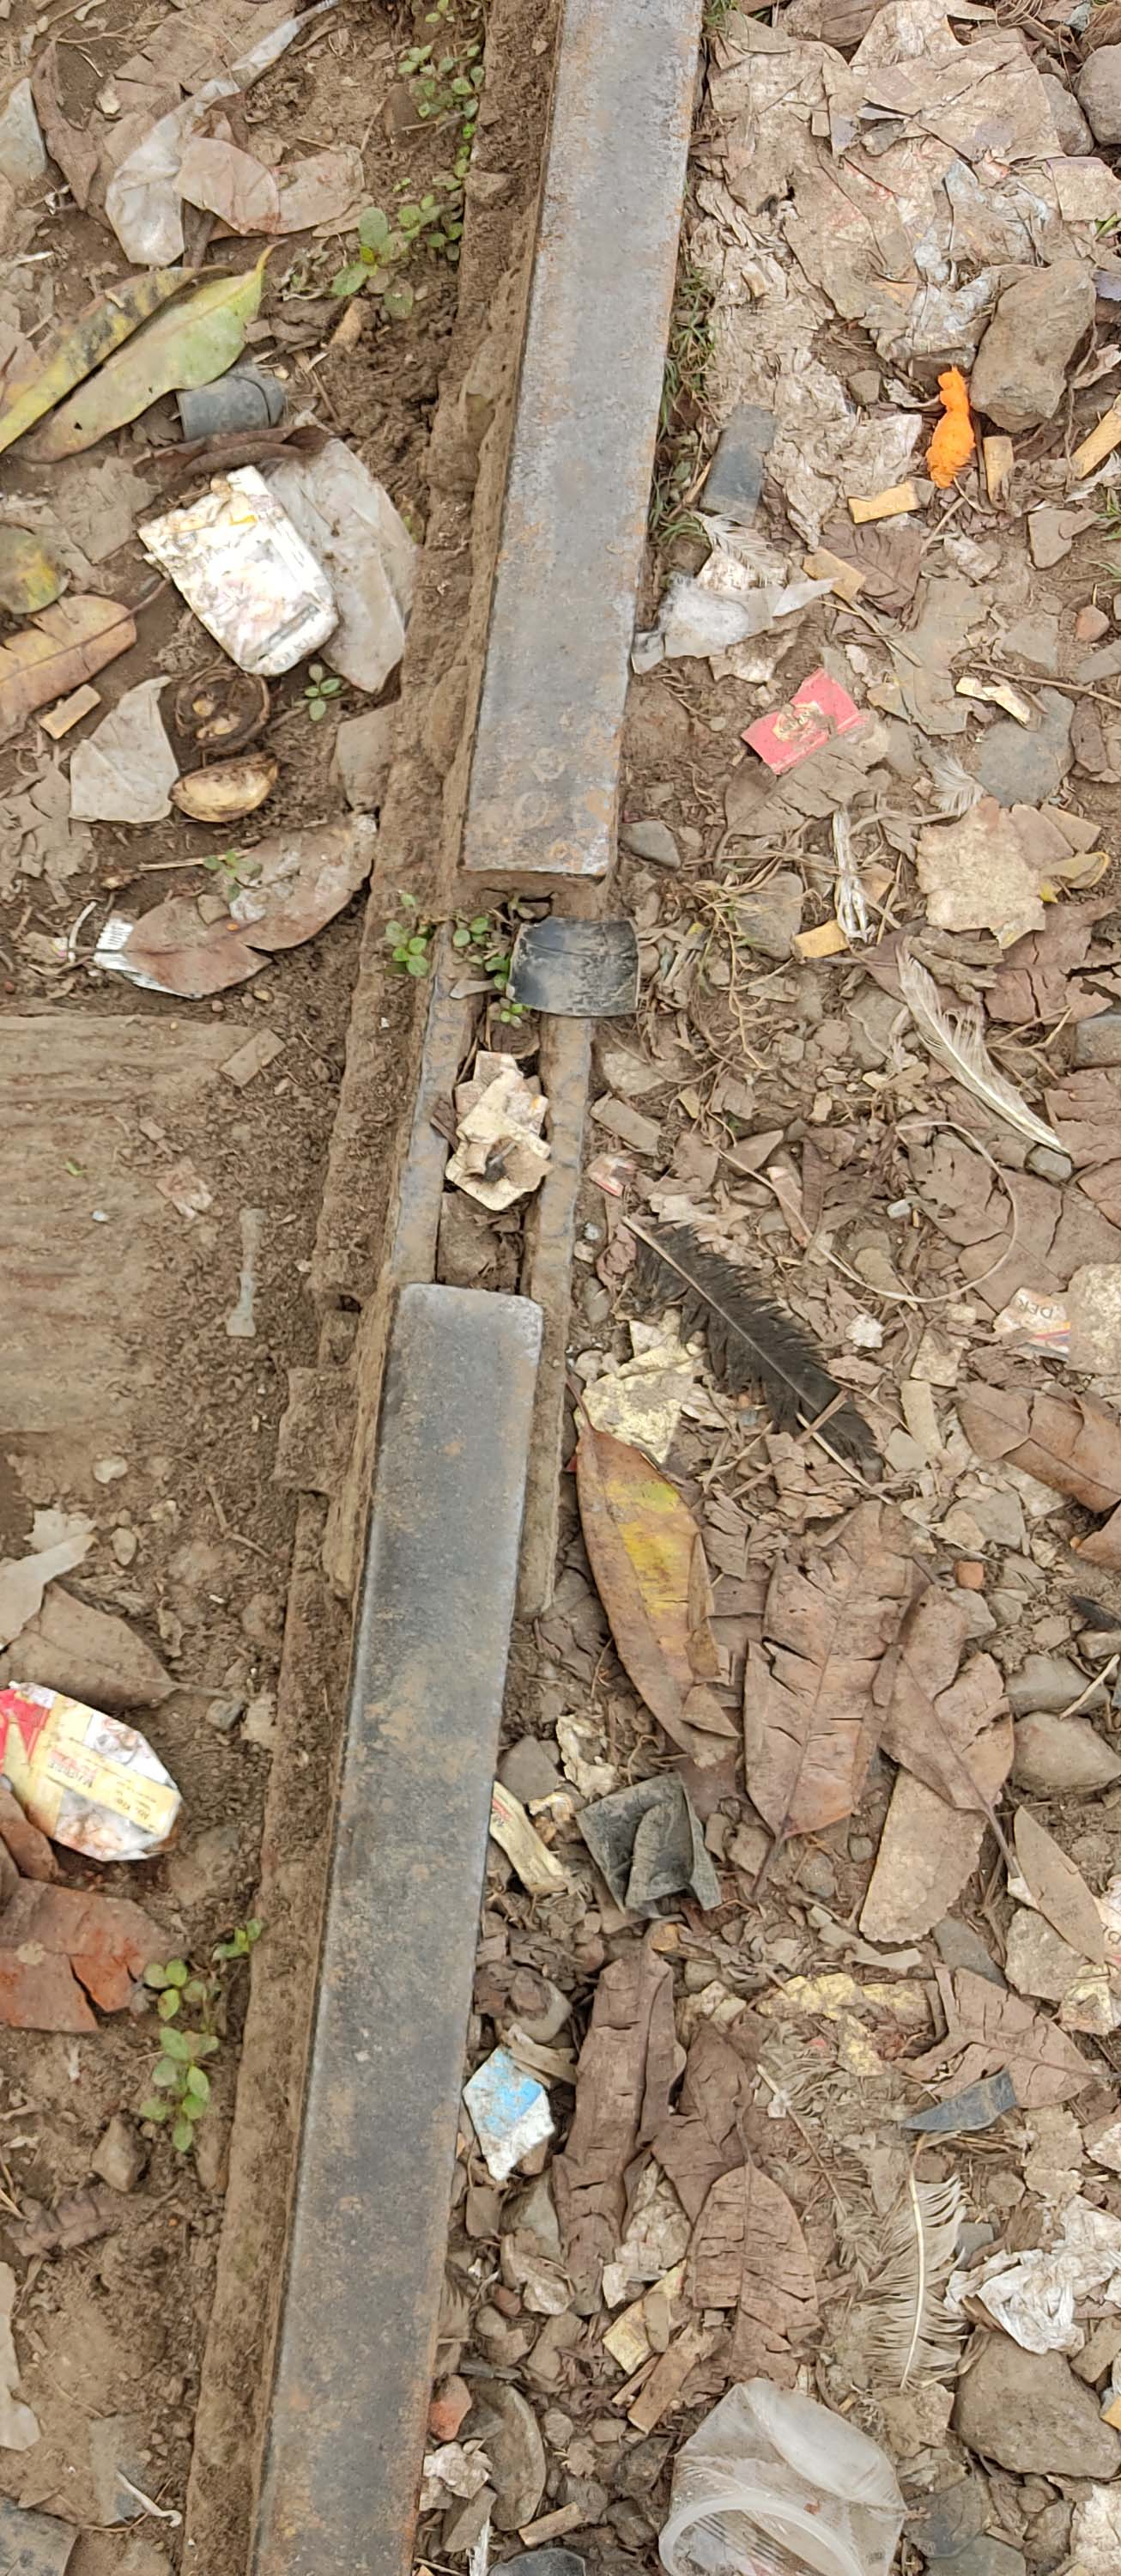error2: (363, 797, 648, 1391)
